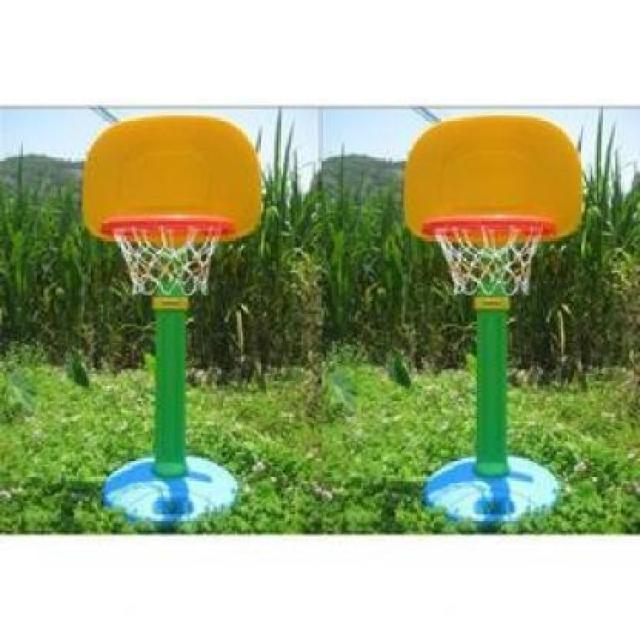rim: (106, 216, 228, 298), (430, 216, 548, 296)
